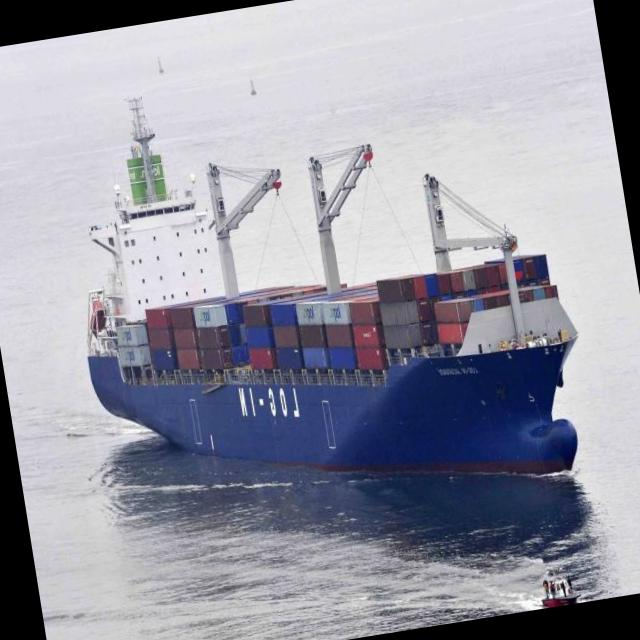Cargo: (88, 100, 578, 474)
